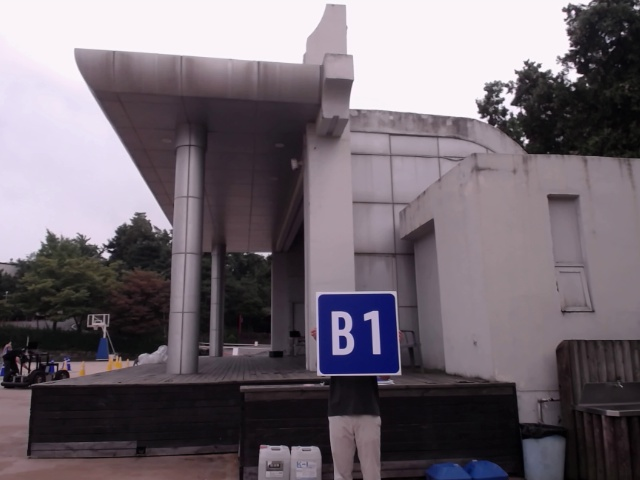delivery_b1: (317, 292, 401, 375)
